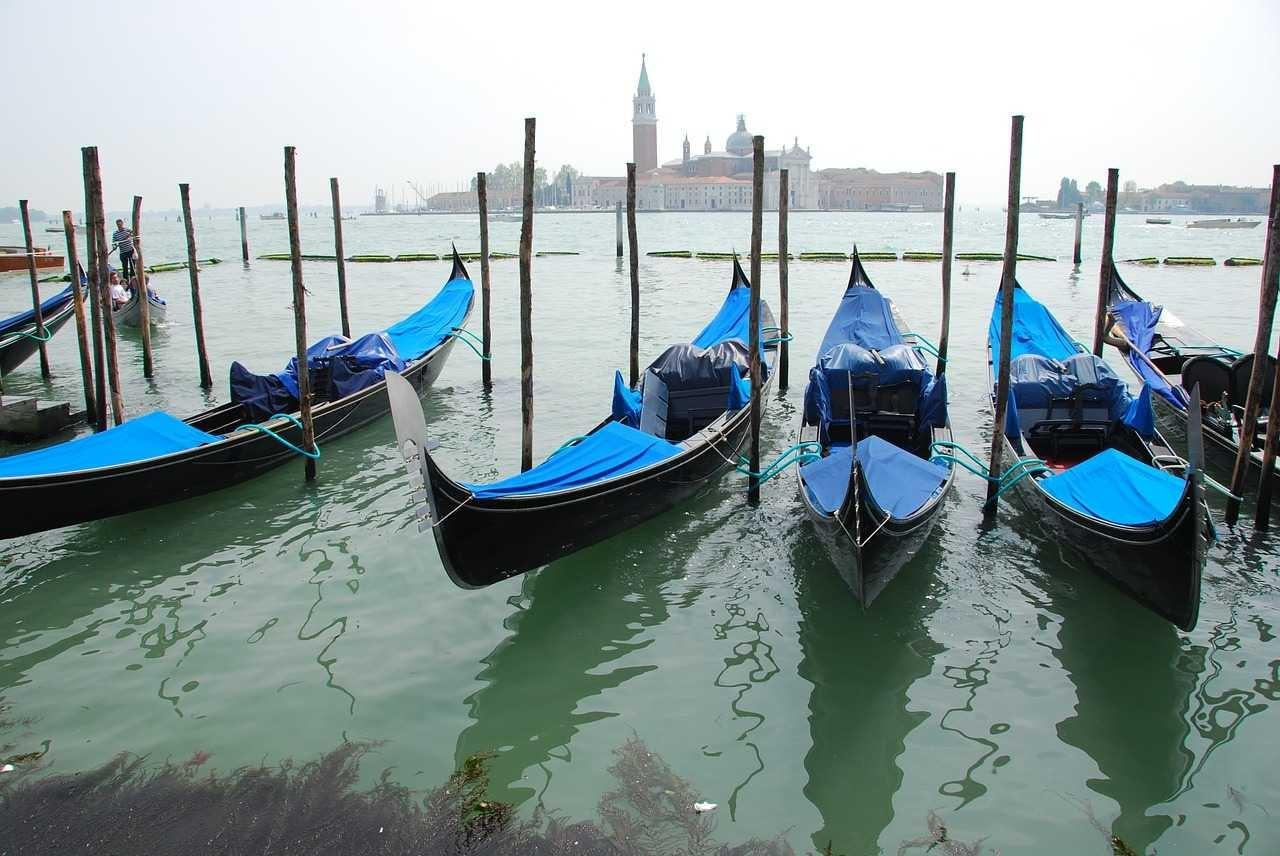kayak: (384, 216, 779, 591), (3, 248, 481, 537), (988, 255, 1202, 598), (1099, 171, 1279, 493), (802, 243, 952, 460), (796, 432, 955, 610), (0, 270, 79, 366), (112, 285, 167, 334)
